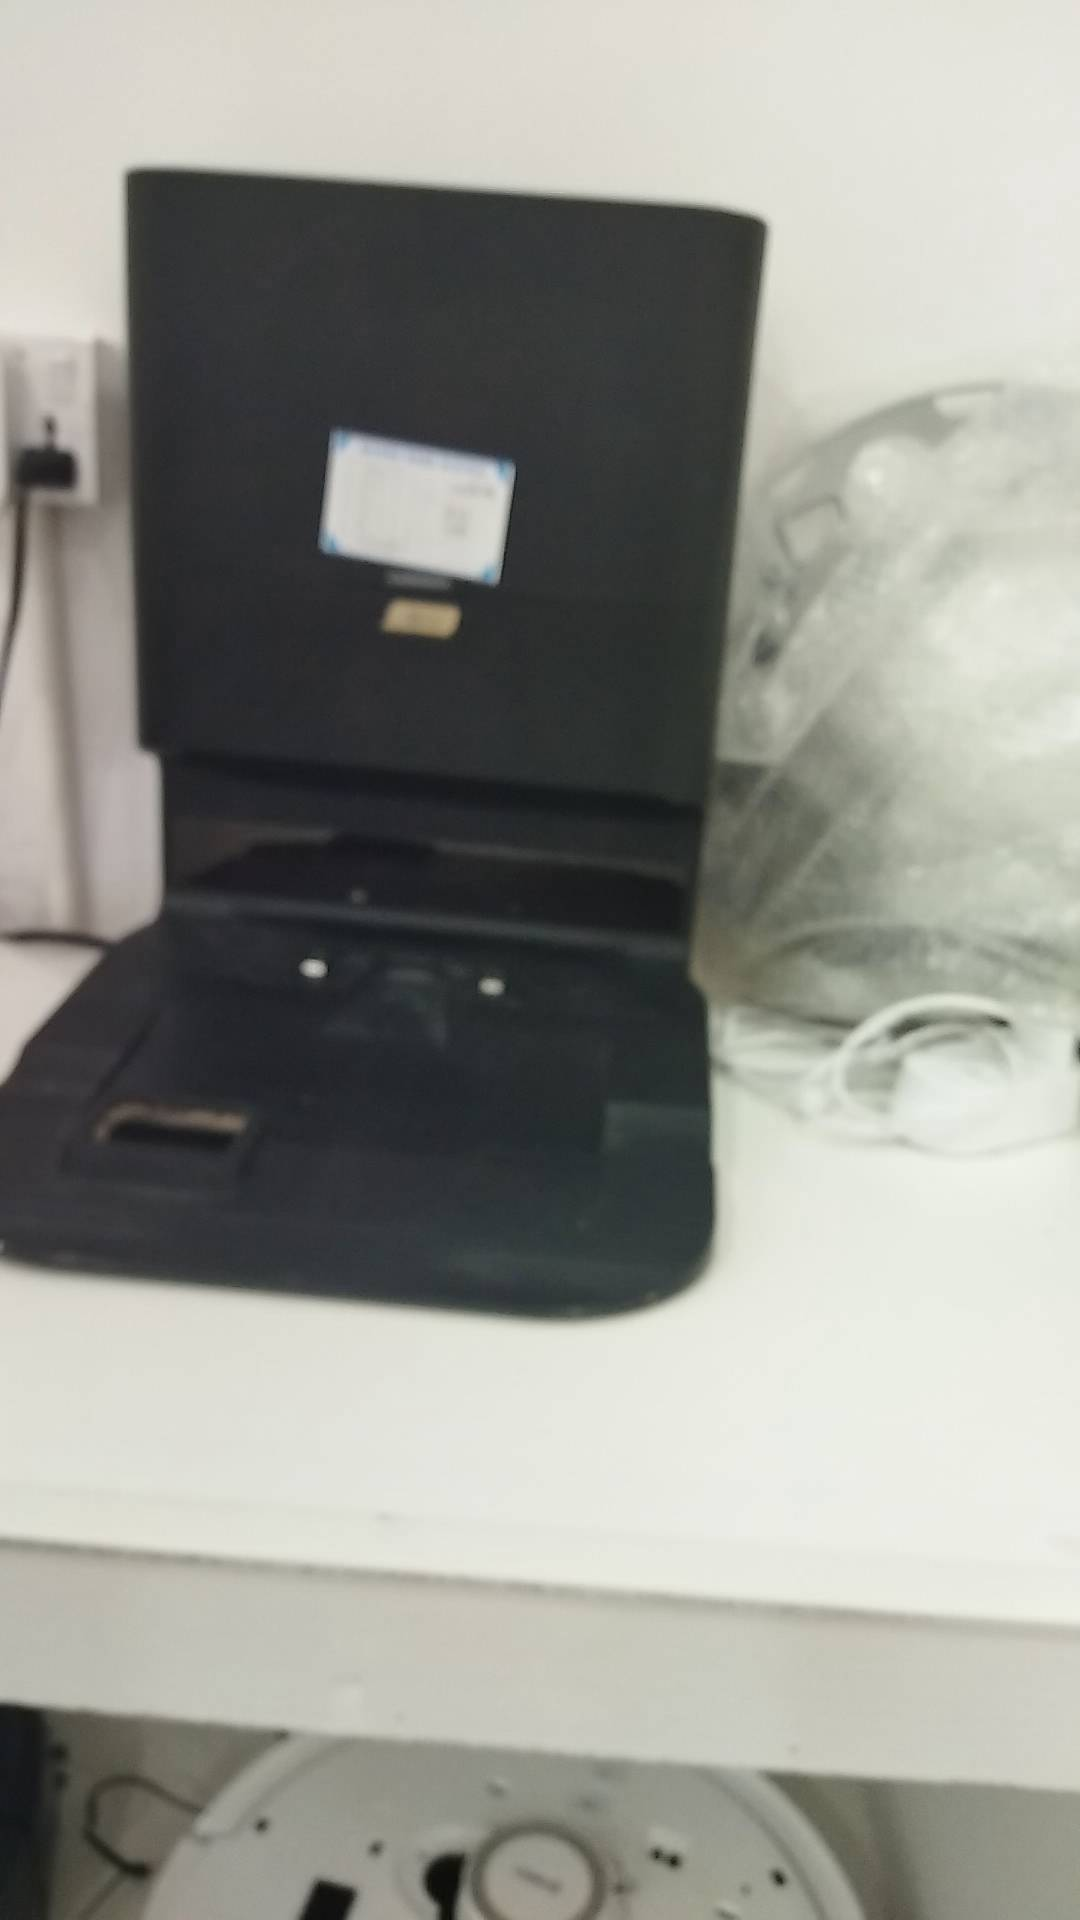dust collecting barrel: (1, 160, 766, 1320)
